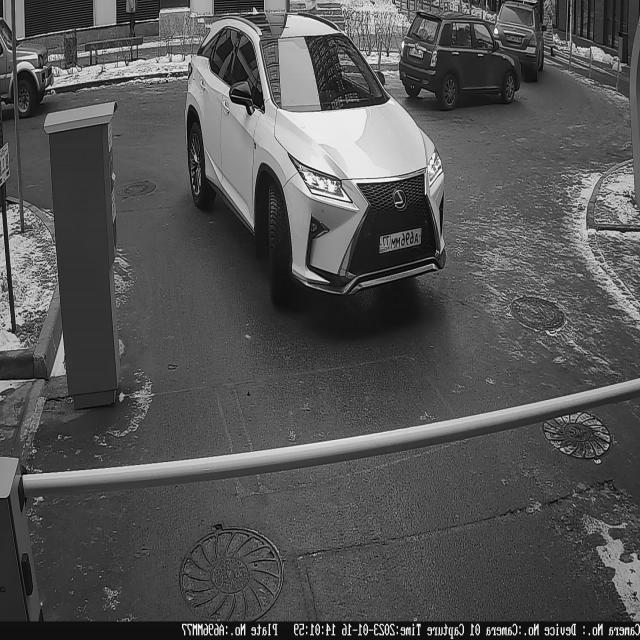car-plate-numbers: (379, 225, 425, 260)
